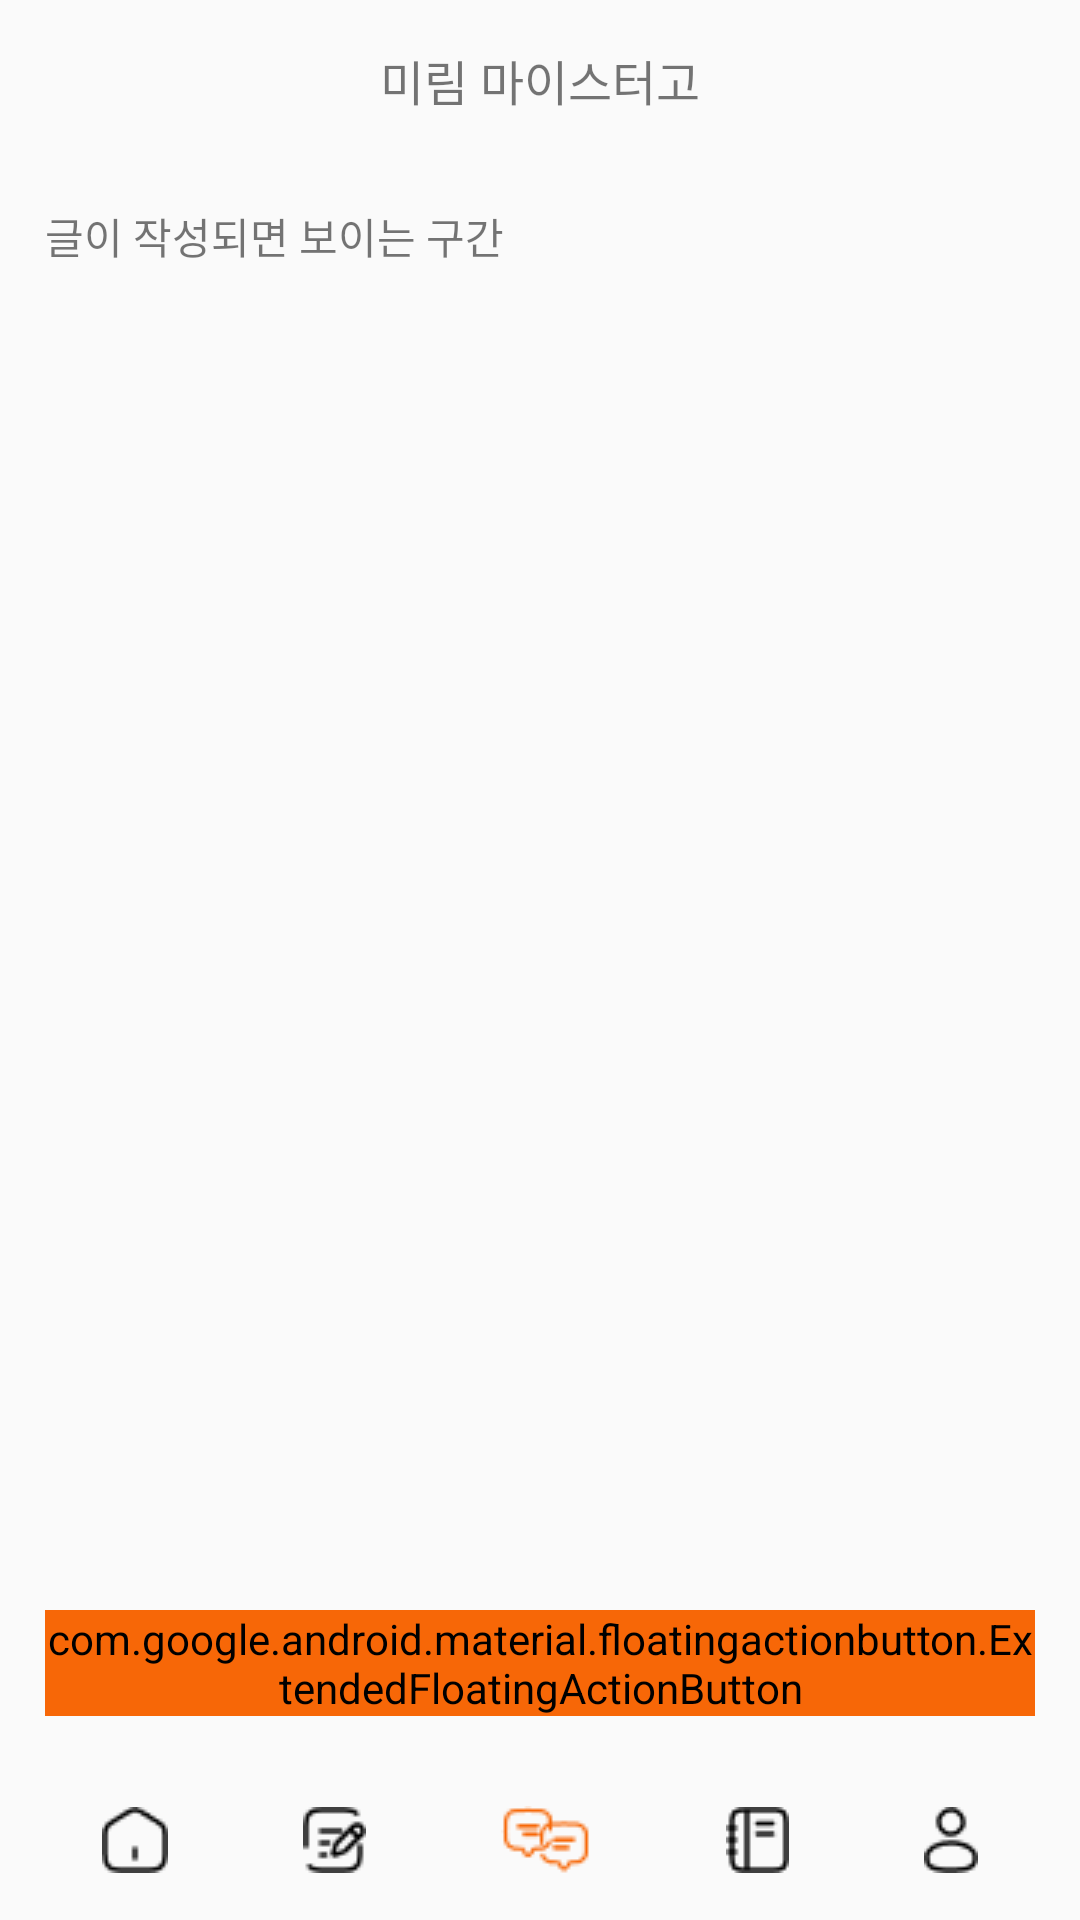

Where icons sit on this 1080px×1920px app screen, as (x1, y1, x2, y2):
focus chat: (503, 1806, 589, 1873)
home: (102, 1807, 168, 1873)
mypage: (924, 1807, 978, 1873)
